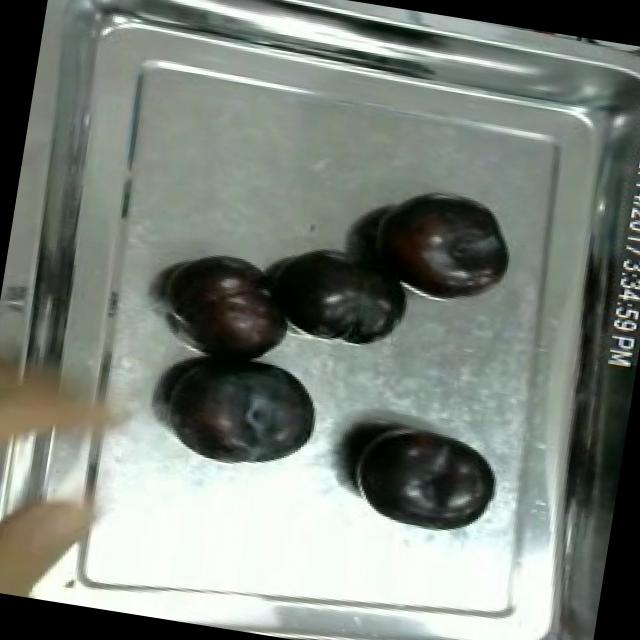Fruit: (150, 339, 333, 483), (333, 410, 508, 545), (362, 182, 520, 310), (260, 234, 418, 355), (155, 244, 306, 370)
